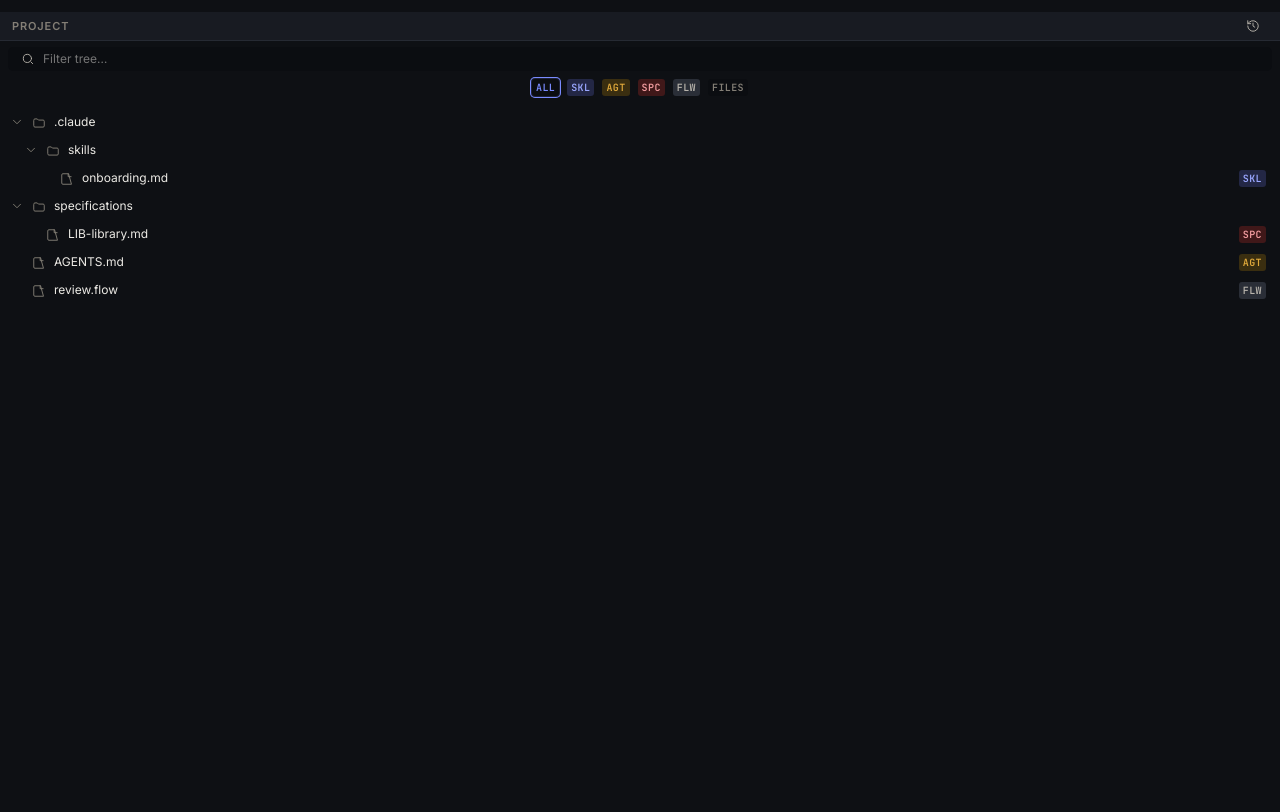
Library filesystem tree › dismisses the menu on an outside click
Right-click the text "onboarding.md": (125, 178) [82,170,168,185]
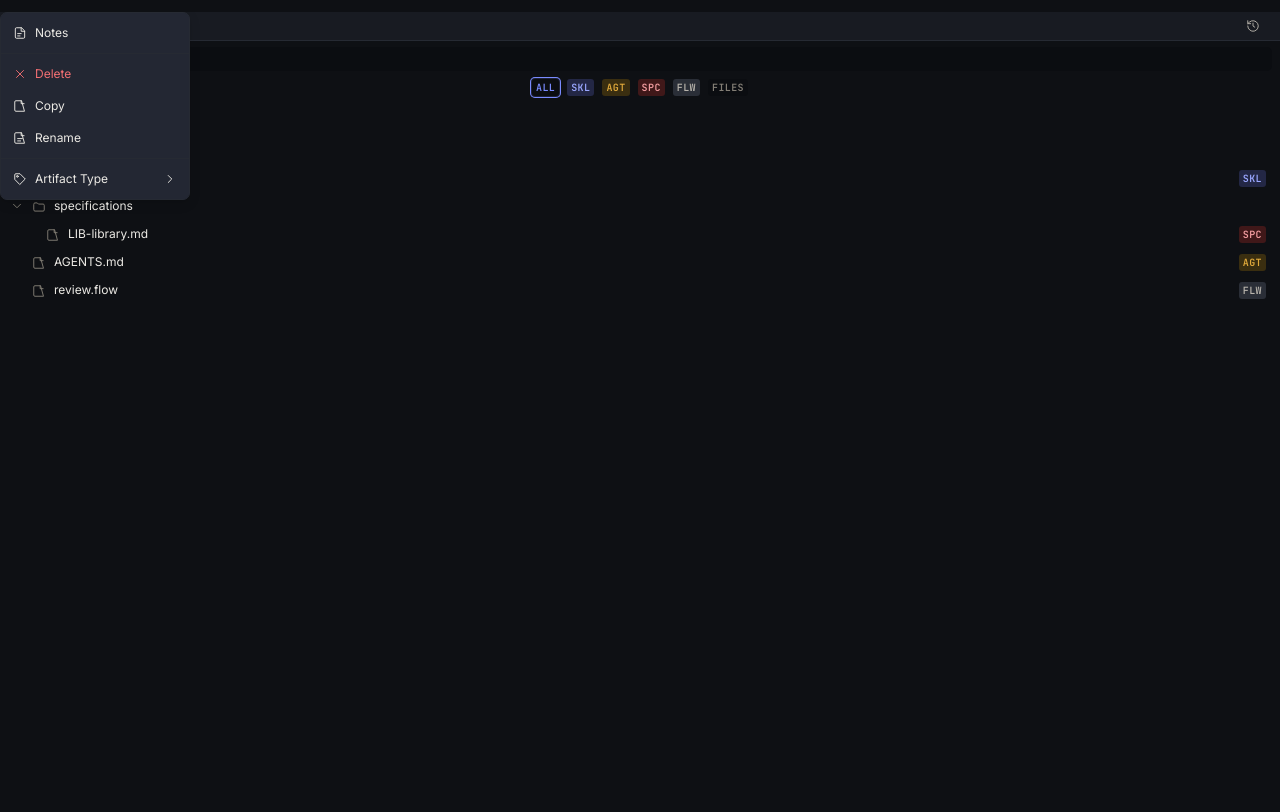
Expected: the element with class "menu" is shown, [0,12,190,200]
Click the element that starts with "Project": (640, 412) [0,12,1279,811]
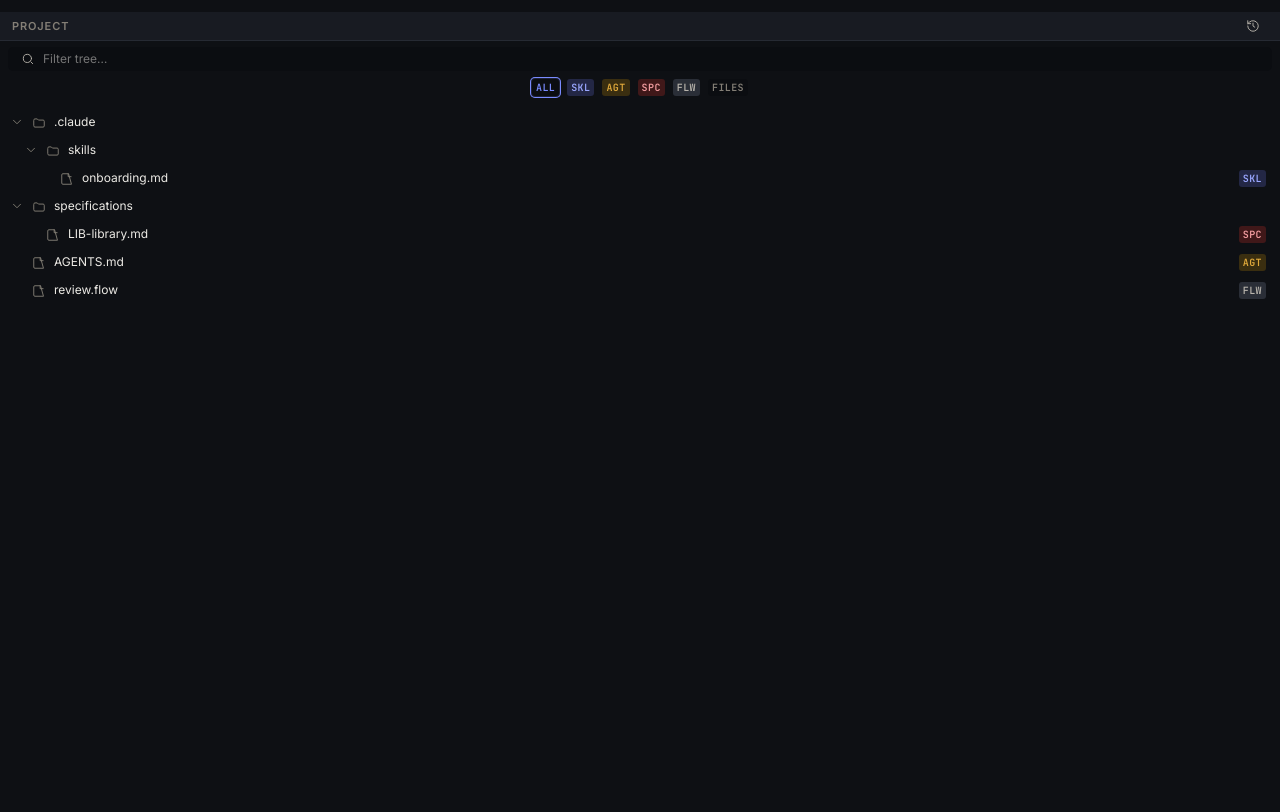
Expected: the element with class "menu" is gone
